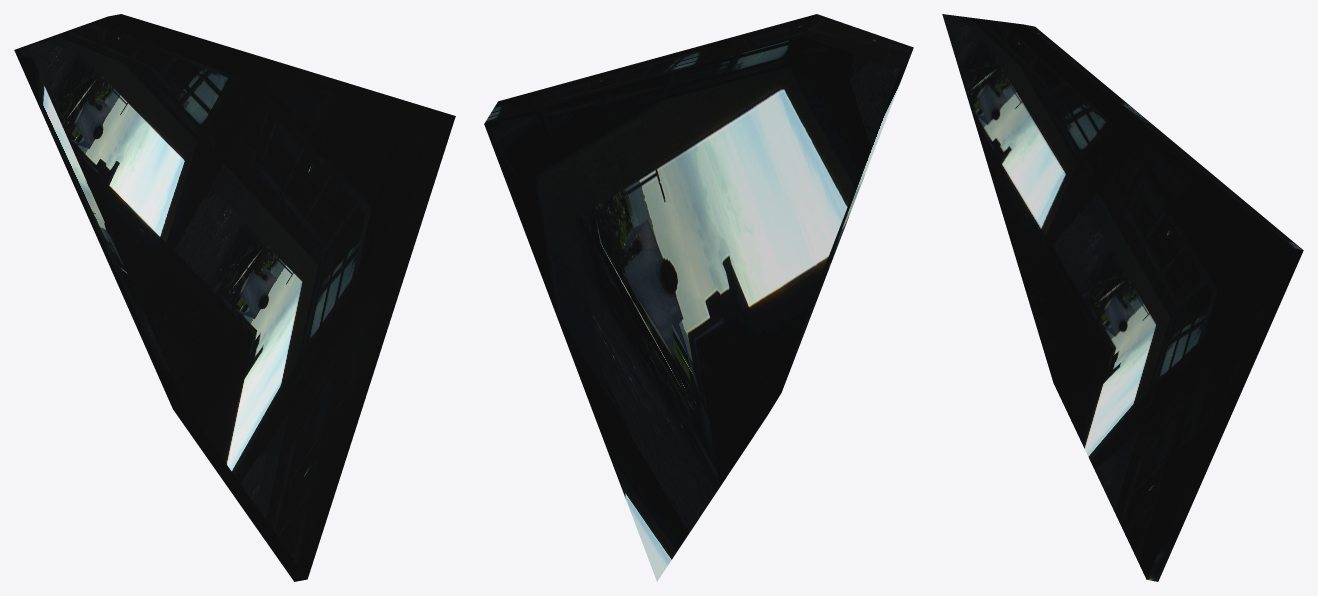
Rendered from etudiant2.gltf.
3 views of the same model, side by side, from view 1: azimuth 30°, elevation 25°; view 2: azimuth 150°, elevation 25°; view 3: azimuth 330°, elevation 25° (orthographic). The views are drawn at different scales.
Visible parts, largest first — view 1: etudiant2; view 2: etudiant2; view 3: etudiant2.
Boxes of the visible parts, x1,y1,x2,y2 form: etudiant2: (14, 14, 455, 581); etudiant2: (484, 14, 913, 581); etudiant2: (942, 14, 1303, 581).
Bounding box in the file's own units: 7.46 × 10.27 × 1.09.
Materials: 1 (1 with a texture image).
